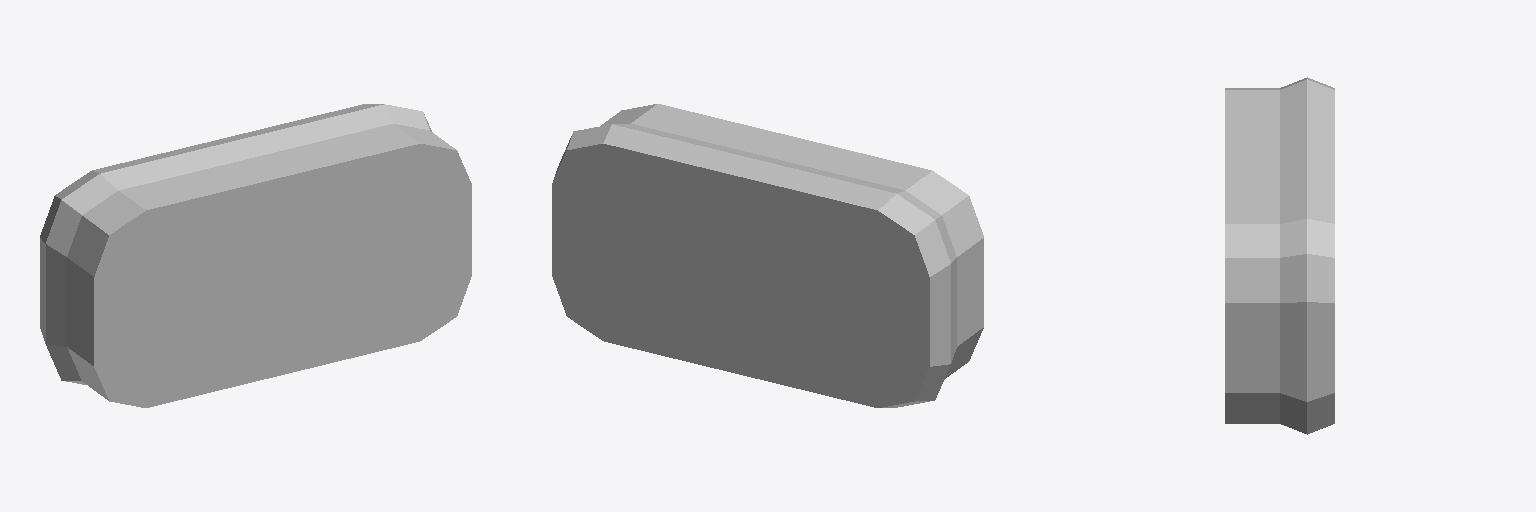
File: block-snow-low-long.obj
The picture shows the model from 3 angles: view 1: azimuth 30°, elevation 25°; view 2: azimuth 150°, elevation 25°; view 3: azimuth 270°, elevation 25°; orthographic projection.
Parts seen in each view (by area): view 1: block-snow-low-long; view 2: block-snow-low-long; view 3: block-snow-low-long.
Boxes of the visible parts, box(x1,y1,x2,y2) form: block-snow-low-long: box(40, 104, 471, 407); block-snow-low-long: box(552, 104, 983, 407); block-snow-low-long: box(1225, 77, 1334, 434).
Bounding box in the file's own units: 2.08 × 1.08 × 0.5.